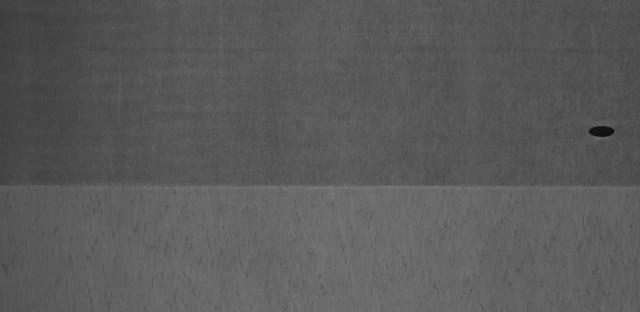punching_hole: (587, 124, 618, 140)
welding_line: (2, 178, 636, 194)
